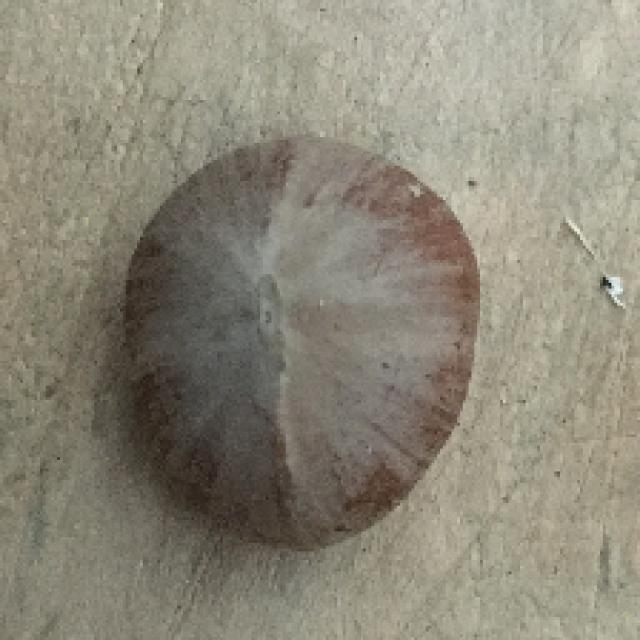qualityHazelnut: (123, 128, 481, 572)
